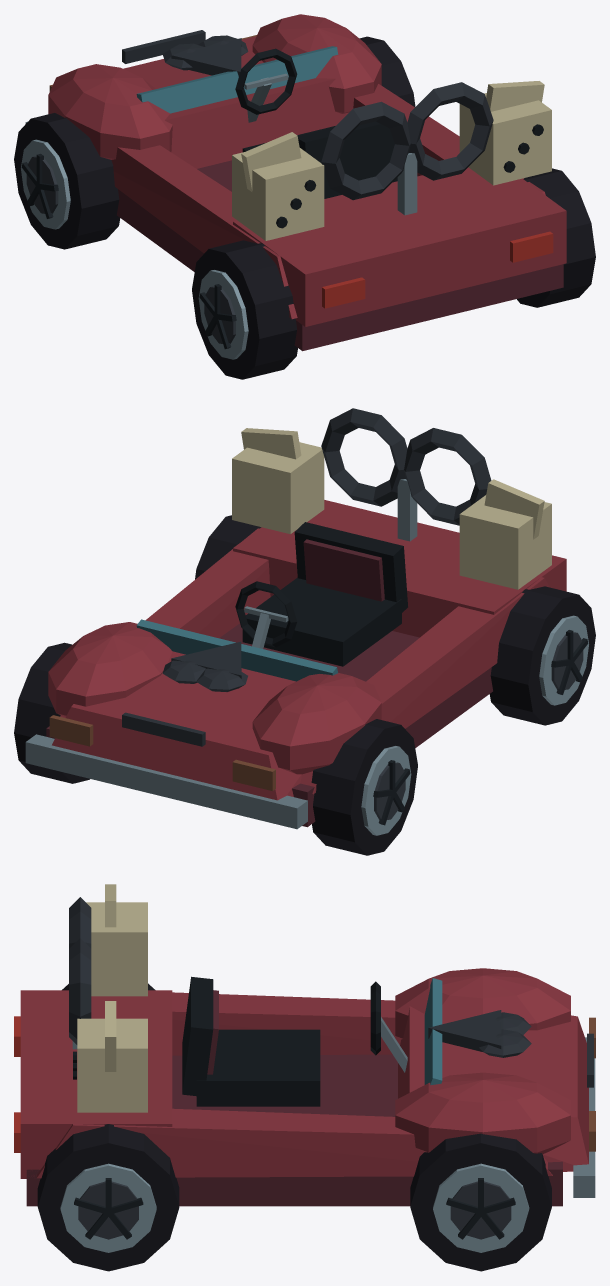
File: kart.glb
3 renders of one model, top to bottom at view 1: azimuth 30°, elevation 25°; view 2: azimuth 150°, elevation 25°; view 3: azimuth 270°, elevation 25°, orthographic. The views are drawn at different scales.
Parts seen in each view (by area): view 1: identity-toy-car-toy-rounded-body-and-wind-up-key, identity-toy-car-motif-dice, wheel-rear-left, wheel-front-left, identity-toy-car-driver-cockpit, wheel-rear-right, identity-toy-car-motif-cards, identity-toy-car-motif-heart, wheel-front-right; view 2: identity-toy-car-toy-rounded-body-and-wind-up-key, identity-toy-car-driver-cockpit, identity-toy-car-motif-dice, wheel-rear-left, wheel-front-left, wheel-front-right, identity-toy-car-motif-cards, identity-toy-car-motif-heart, wheel-rear-right; view 3: identity-toy-car-toy-rounded-body-and-wind-up-key, wheel-rear-right, wheel-front-right, identity-toy-car-driver-cockpit, identity-toy-car-motif-dice, identity-toy-car-motif-heart, identity-toy-car-motif-cards.
Part boxes in pixels (x1,y1,x2,y2): identity-toy-car-toy-rounded-body-and-wind-up-key: (25,14,566,351); identity-toy-car-motif-dice: (232,93,551,240); wheel-rear-left: (192,240,297,379); wheel-front-left: (14,113,120,249); identity-toy-car-driver-cockpit: (235,48,397,198); wheel-rear-right: (517,168,595,307); identity-toy-car-motif-cards: (241,81,544,191); identity-toy-car-motif-heart: (162,35,248,76); wheel-front-right: (359,36,415,106); identity-toy-car-toy-rounded-body-and-wind-up-key: (25,408,566,829); identity-toy-car-driver-cockpit: (235,522,407,666); identity-toy-car-motif-dice: (232,442,551,589); wheel-rear-left: (489,586,595,725); wheel-front-left: (311,719,417,855); wheel-front-right: (14,642,89,783); identity-toy-car-motif-cards: (241,428,544,539); identity-toy-car-motif-heart: (162,641,247,691); wheel-rear-right: (195,515,261,579); identity-toy-car-toy-rounded-body-and-wind-up-key: (14,897,595,1206); wheel-rear-right: (37,1124,179,1271); wheel-front-right: (410,1133,551,1271); identity-toy-car-driver-cockpit: (182,976,407,1106); identity-toy-car-motif-dice: (73,902,147,1112); identity-toy-car-motif-heart: (428,1010,531,1057); identity-toy-car-motif-cards: (105,884,116,1071).
Bounding box in the file's own units: 2.13 × 1.42 × 2.88.
